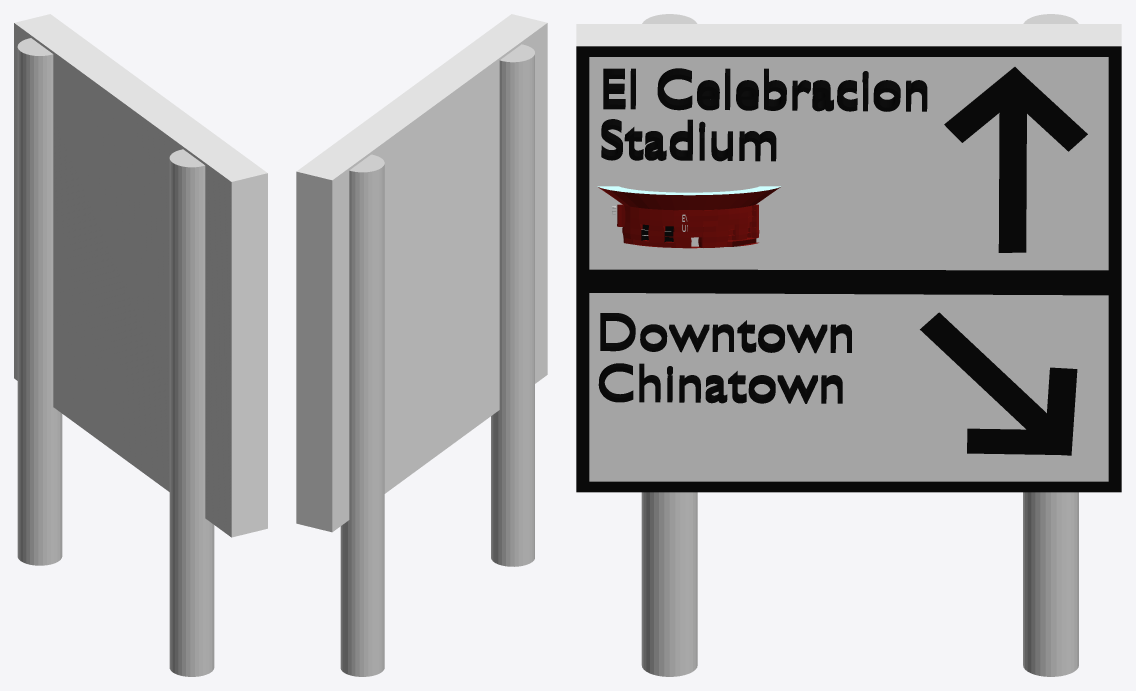
File: UK_styled_junction_sign_3.fbx
3 renders of one model, left to right at view 1: azimuth 30°, elevation 25°; view 2: azimuth 150°, elevation 25°; view 3: azimuth 270°, elevation 25°, orthographic. The views are drawn at different scales.
Parts seen in each view (by area): view 1: Cube.001, Cylinder, Cylinder.001; view 2: Cube.001, Cylinder.001, Cylinder; view 3: Cube.001, Cylinder, Text.003, Cylinder.001, Text.001, el_celebracion_stadium, Plane.003, Plane.002, Plane.004, Plane.001, Plane, Plane.005.
Boxes of the visible parts, left/top/right/bottom form: Cube.001: left=14, top=14, right=267, bottom=537; Cylinder: left=169, top=149, right=214, bottom=676; Cylinder.001: left=17, top=38, right=62, bottom=565; Cube.001: left=296, top=14, right=547, bottom=532; Cylinder.001: left=340, top=154, right=384, bottom=676; Cylinder: left=491, top=44, right=534, bottom=566; Cube.001: left=576, top=24, right=1121, bottom=492; Cylinder: left=641, top=14, right=697, bottom=676; Text.003: left=601, top=68, right=927, bottom=161; Cylinder.001: left=1023, top=14, right=1078, bottom=676; Text.001: left=598, top=313, right=851, bottom=403; el_celebracion_stadium: left=597, top=186, right=781, bottom=248; Plane.003: left=998, top=99, right=1026, bottom=252; Plane.002: left=920, top=312, right=1056, bottom=439; Plane.004: left=1001, top=72, right=1087, bottom=151; Plane.001: left=967, top=428, right=1062, bottom=454; Plane: left=1045, top=367, right=1077, bottom=455; Plane.005: left=944, top=67, right=1020, bottom=142.
Bounding box in the file's own units: 7.48 × 50.59 × 38.93.
